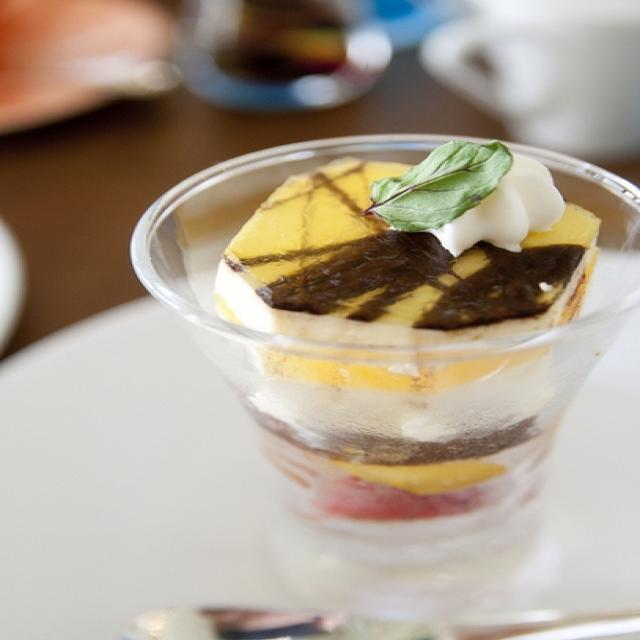蛋糕甜品: (113, 98, 628, 568)
